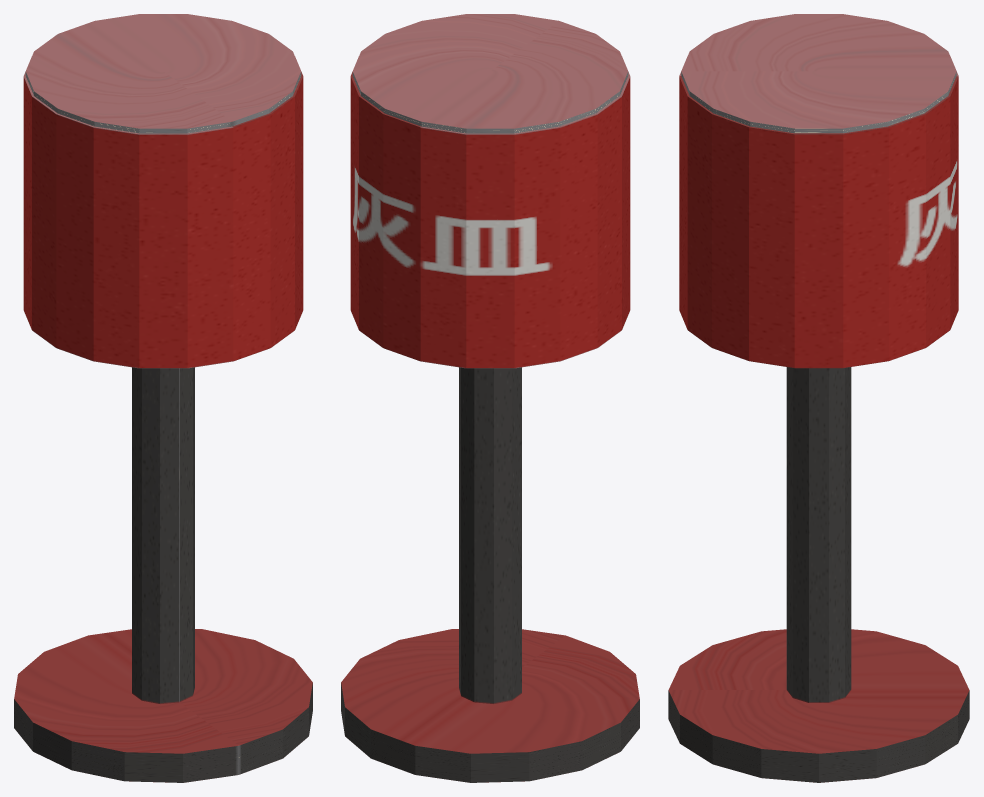
File: ashtray.glb
3 renders of one model, left to right at view 1: azimuth 30°, elevation 25°; view 2: azimuth 150°, elevation 25°; view 3: azimuth 270°, elevation 25°, orthographic.
Parts seen in each view (by area): view 1: ashtray; view 2: ashtray; view 3: ashtray.
Part boxes in pixels (x1,y1,x2,y2): ashtray: [14, 14, 312, 782]; ashtray: [341, 14, 639, 782]; ashtray: [668, 14, 969, 782].
Bounding box in the file's own units: 0.28 × 0.665 × 0.28.
Materials: 1 (1 with a texture image).
